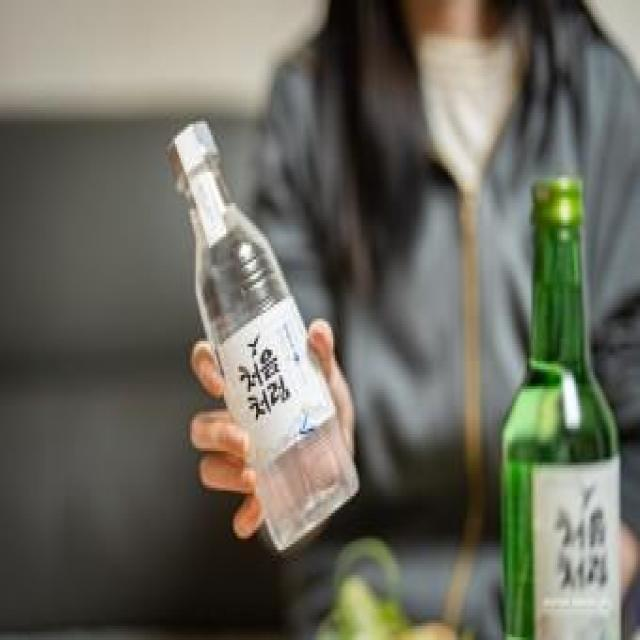soju-bottle: (168, 121, 360, 553), (498, 178, 622, 638)
